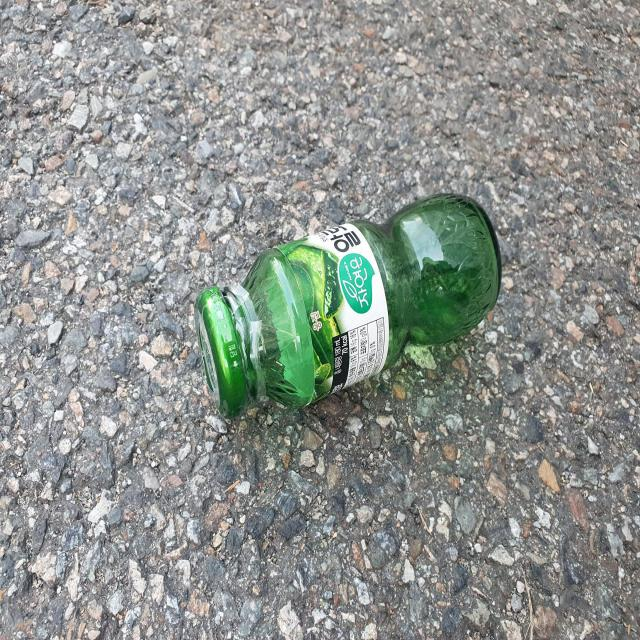glass: (194, 193, 502, 418)
